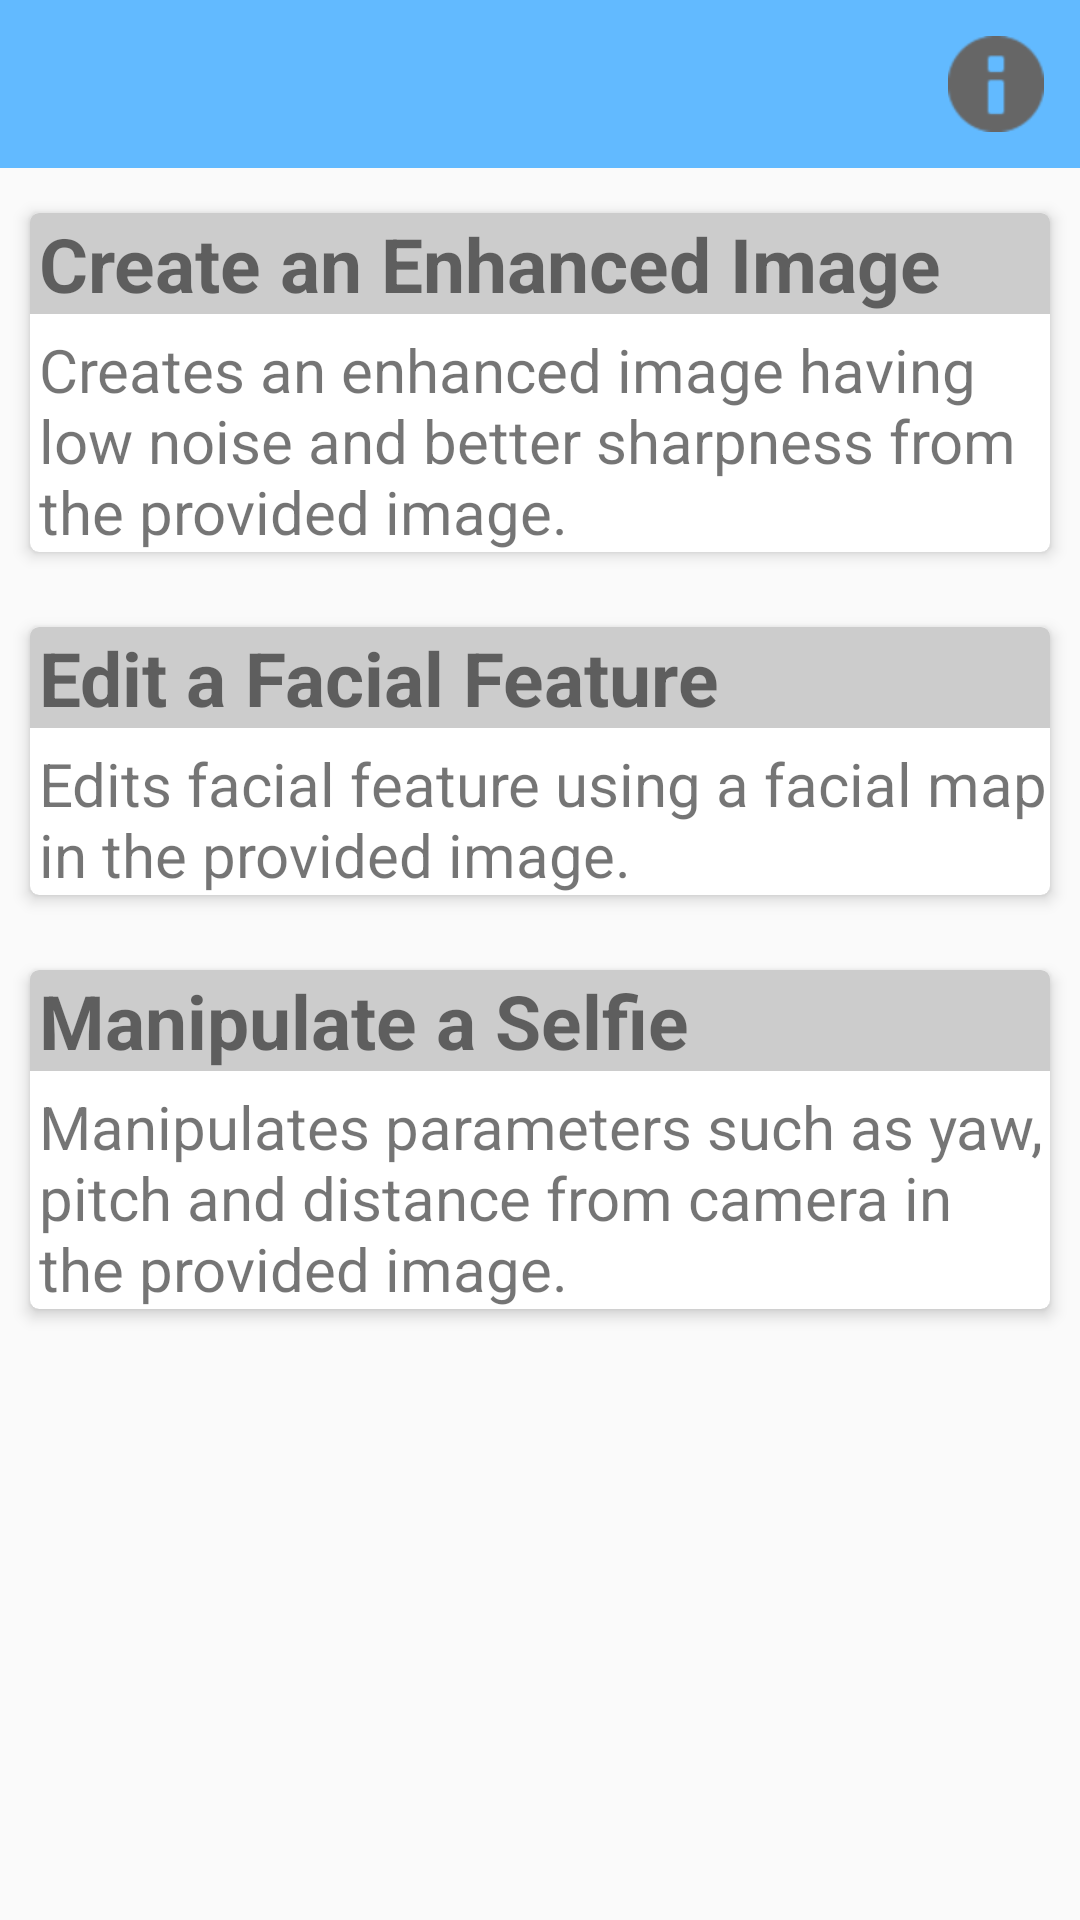

Icons on this 1080px×1920px Android screen, each with its box as (left=x1, top=y1, right=x2, bottom=y2):
info: (left=948, top=36, right=1044, bottom=132)
